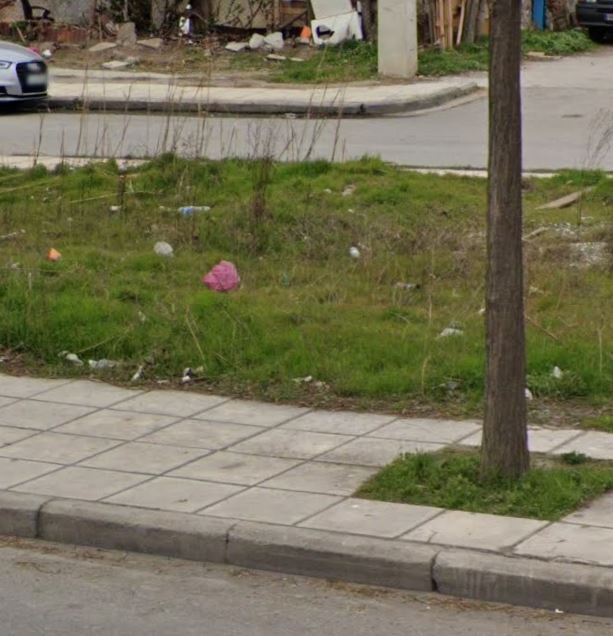trash: (82, 351, 154, 381), (198, 256, 240, 295), (172, 201, 216, 218), (40, 244, 66, 264)
